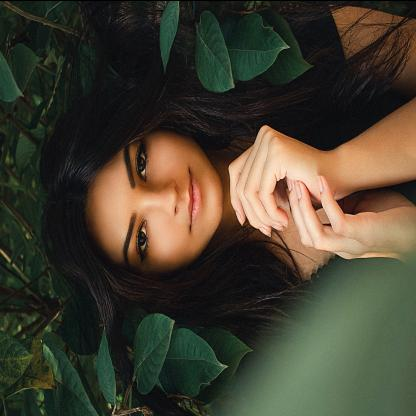Eye: (131, 139, 152, 180), (133, 216, 153, 258)
Mouth: (184, 166, 204, 233)
Nose: (140, 176, 182, 220)
